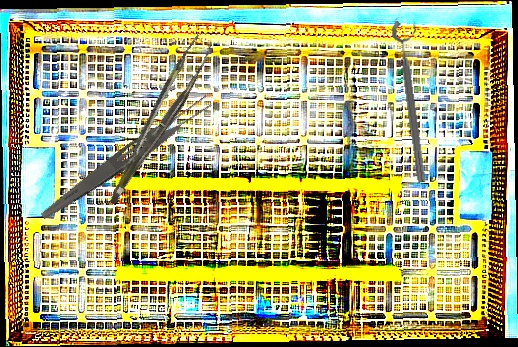Dressing Forceps: (37, 90, 216, 228)
Fixation Ring: (390, 18, 439, 184)
Tissue Forceps: (90, 34, 222, 205)
